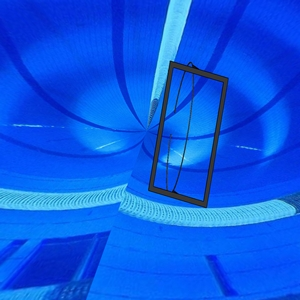circle: (147, 60, 230, 210)
